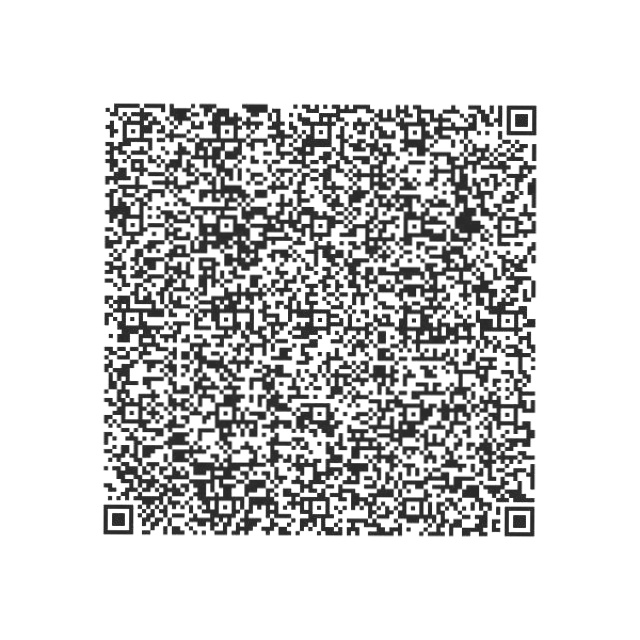qr-code: (92, 73, 567, 569)
